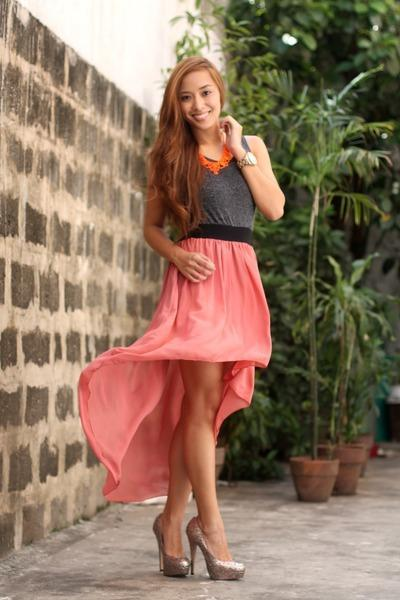shirt: (208, 156, 260, 230)
shoe: (157, 530, 243, 580)
skirt: (70, 238, 271, 503)
